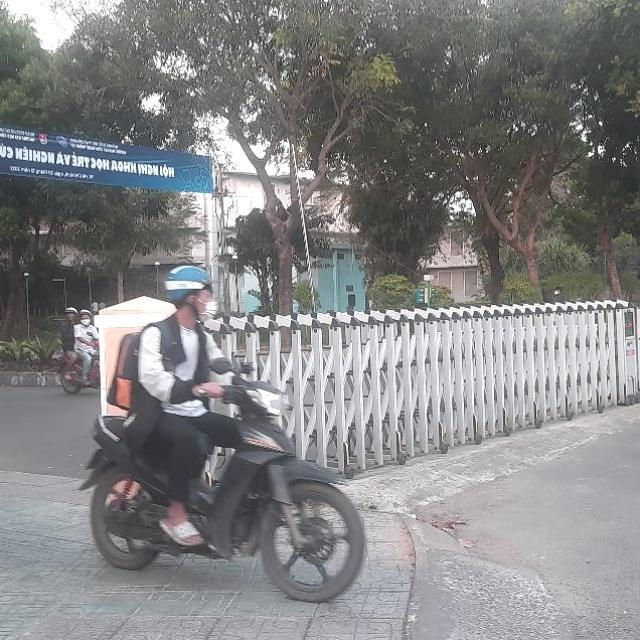Helmet: (162, 264, 216, 324)
